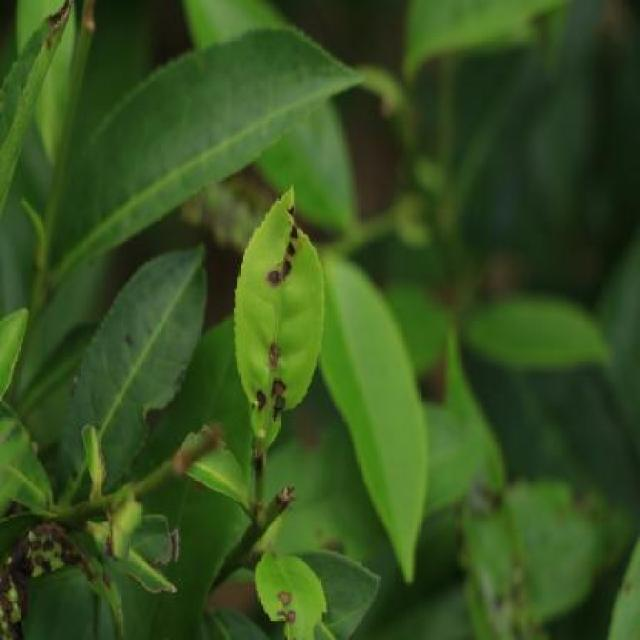Tea Mosquito bug infested leaf: (231, 206, 329, 419), (0, 503, 114, 625), (254, 535, 328, 640)
